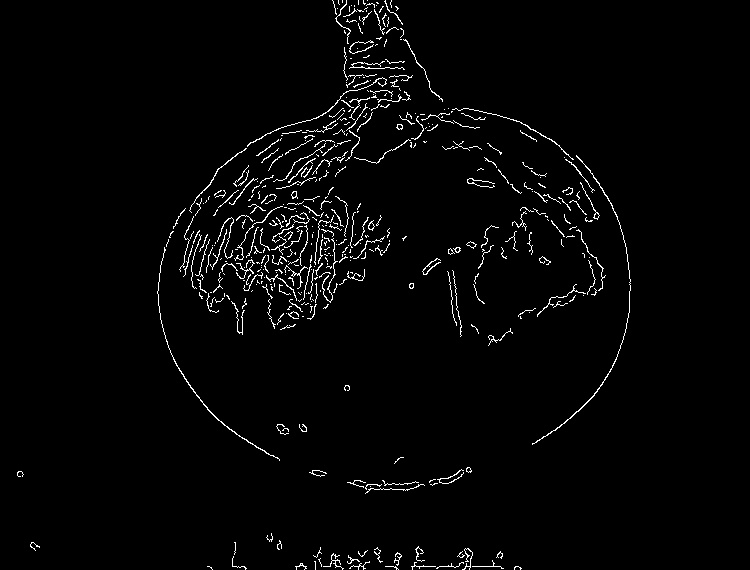red_onion: (135, 1, 635, 495)
